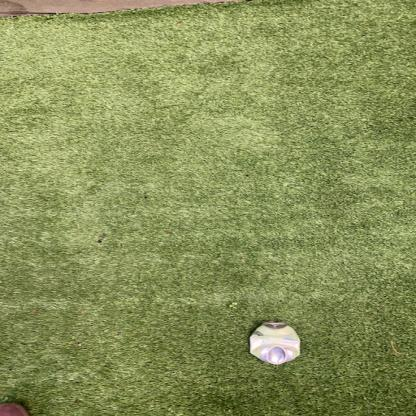trash: (249, 320, 304, 367)
